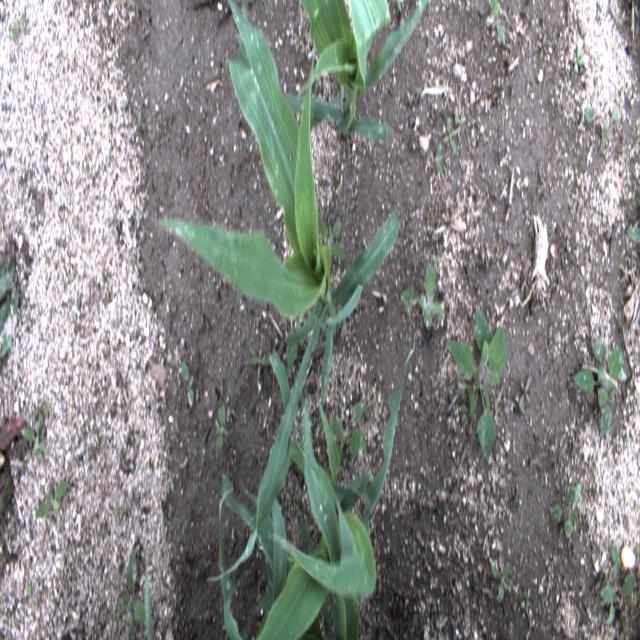crop: (157, 0, 401, 524), (217, 336, 416, 639), (287, 0, 428, 155), (219, 524, 250, 639)
weed: (446, 304, 508, 471), (573, 338, 626, 438), (595, 542, 640, 640), (401, 255, 445, 329), (115, 568, 154, 639), (19, 402, 51, 463), (0, 255, 20, 330), (34, 481, 69, 519), (490, 561, 514, 606), (563, 481, 581, 538), (214, 400, 230, 460), (0, 472, 15, 514), (181, 359, 195, 404), (125, 549, 139, 591), (9, 13, 28, 39), (444, 115, 456, 156), (519, 375, 531, 413), (572, 44, 586, 76), (0, 334, 13, 366), (548, 501, 564, 525), (437, 146, 448, 176), (625, 226, 640, 247), (488, 0, 501, 19), (495, 20, 505, 43), (521, 586, 530, 611), (370, 394, 377, 426), (609, 104, 621, 121), (541, 31, 547, 63), (600, 128, 610, 147), (584, 105, 595, 122), (114, 504, 124, 518), (25, 581, 33, 598), (454, 116, 466, 126), (136, 108, 143, 124), (396, 0, 403, 14), (169, 478, 175, 493), (485, 14, 491, 28), (205, 559, 211, 570), (137, 212, 142, 224), (431, 434, 436, 445)
